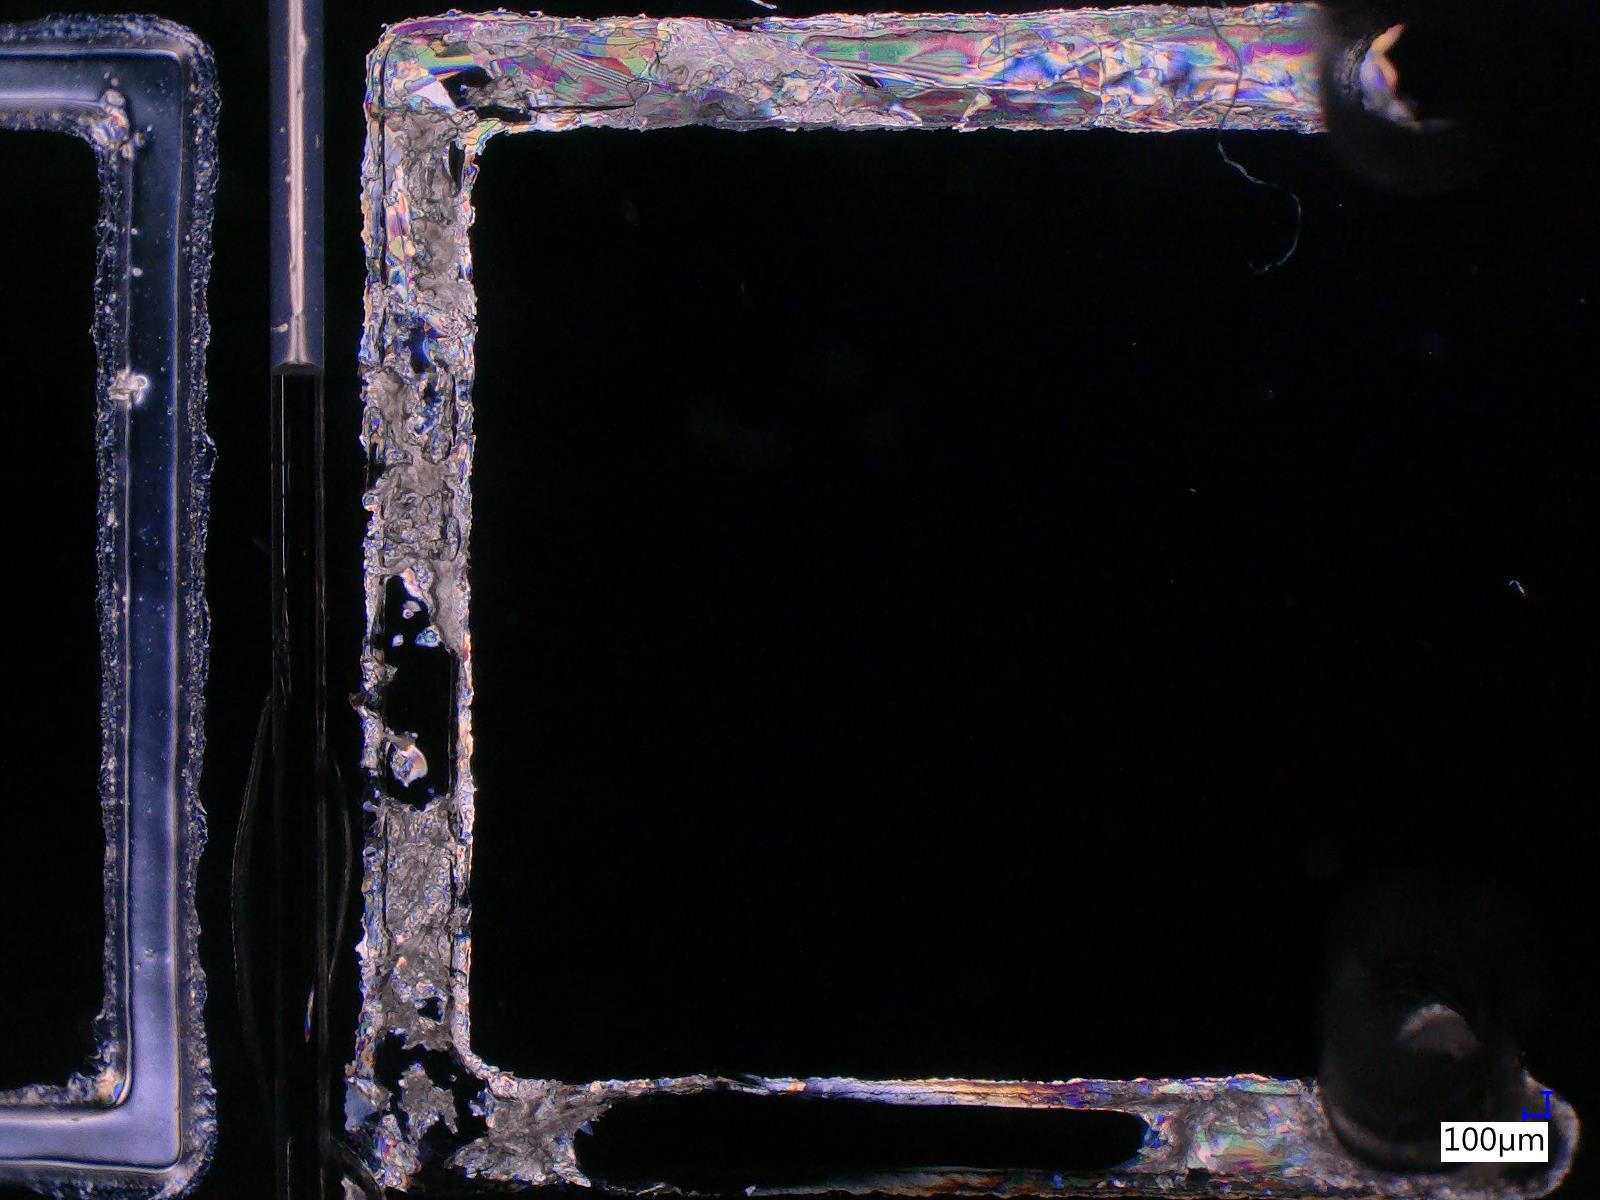sediment: (368, 795, 467, 1050), (363, 105, 474, 328), (359, 361, 465, 584), (477, 1089, 605, 1187), (1136, 1097, 1265, 1167), (396, 1066, 459, 1134)
